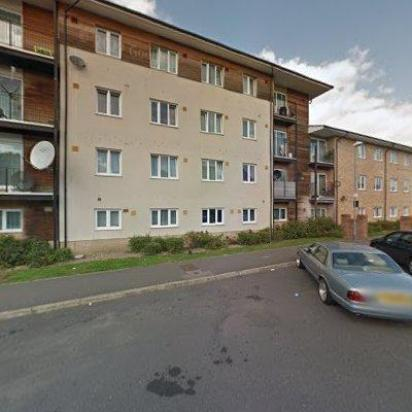stationary-car-onstreet: (294, 236, 410, 344), (368, 226, 412, 272)
